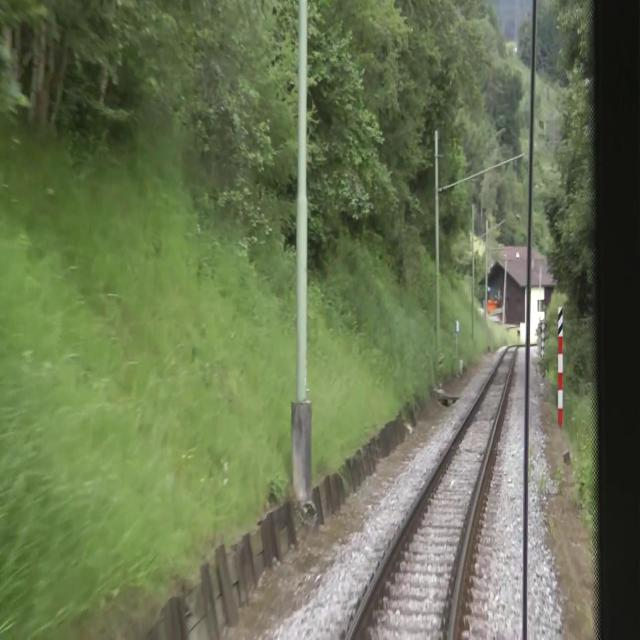rail-track: (350, 349, 514, 639)
